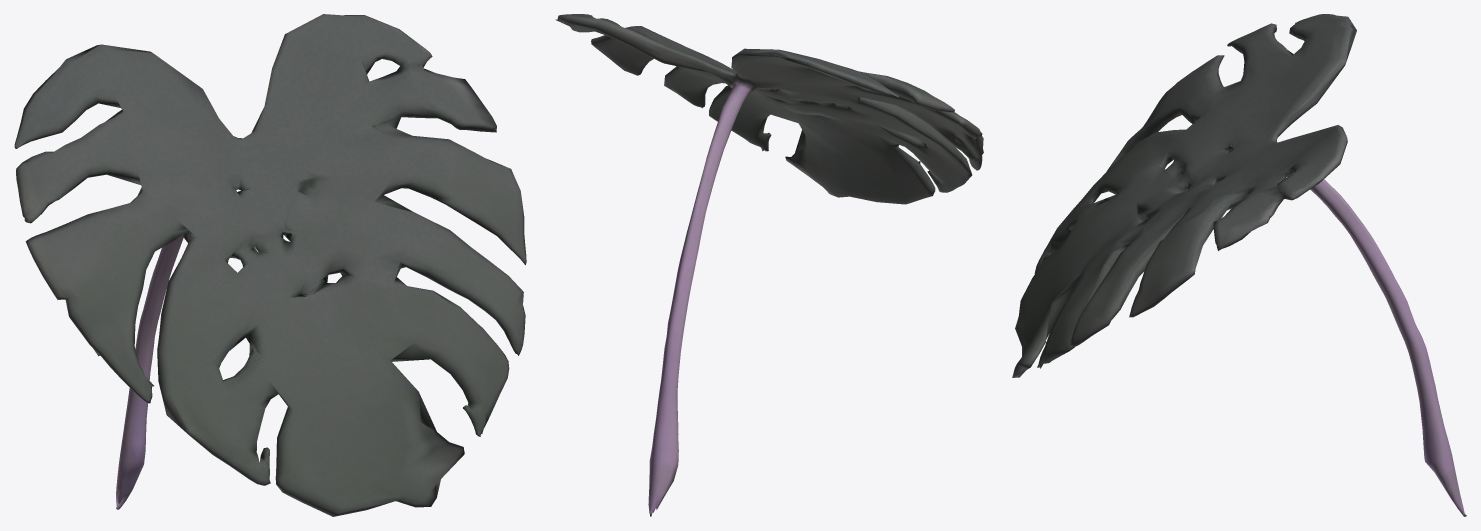
File: mon_charcoal_v2.glb
3 views of the same model, side by side, from view 1: azimuth 30°, elevation 25°; view 2: azimuth 150°, elevation 25°; view 3: azimuth 270°, elevation 25° (orthographic). The views are drawn at different scales.
Parts seen in each view (by area): view 1: world; view 2: world; view 3: world.
Part boxes in pixels (<box>): world: <box>14,14,526,516</box>; world: <box>555,14,983,516</box>; world: <box>1012,14,1466,516</box>.
Size of the model in its own units: 1.84 by 2 by 1.81.
Materials: 1 (1 with a texture image).
